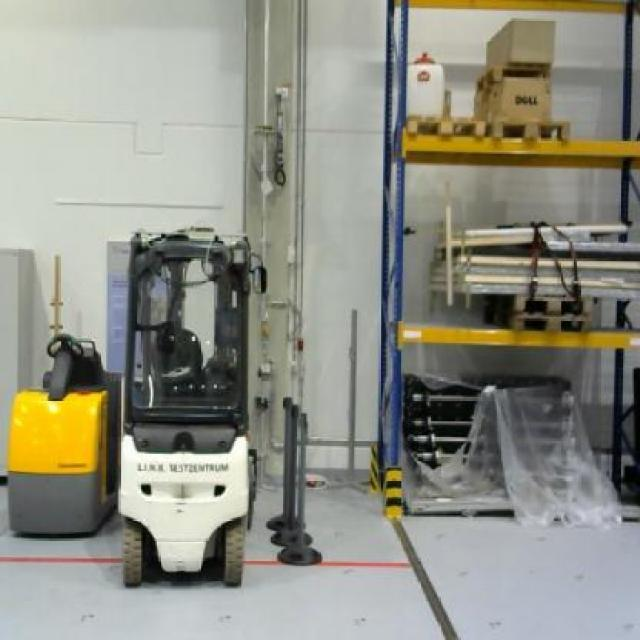box: (485, 18, 553, 67), (476, 80, 550, 120)
